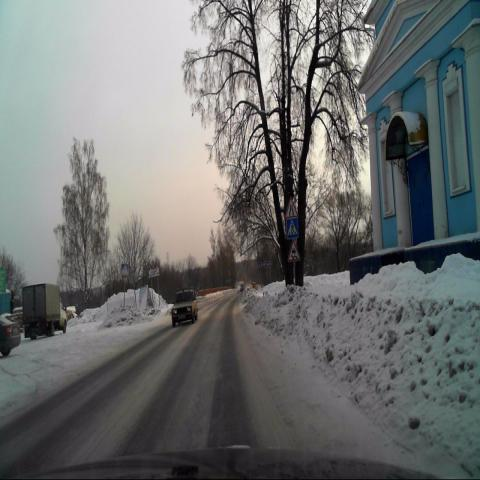1_15: (288, 240, 300, 262)
1_20: (285, 196, 298, 218)
5_19_1: (286, 218, 298, 239), (121, 264, 128, 277)
